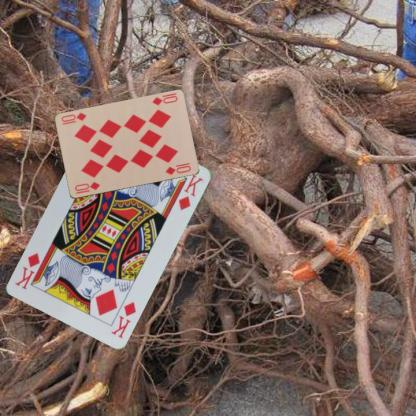10d: (72, 179, 101, 195), (150, 93, 178, 107)
Kd: (108, 299, 138, 339)
